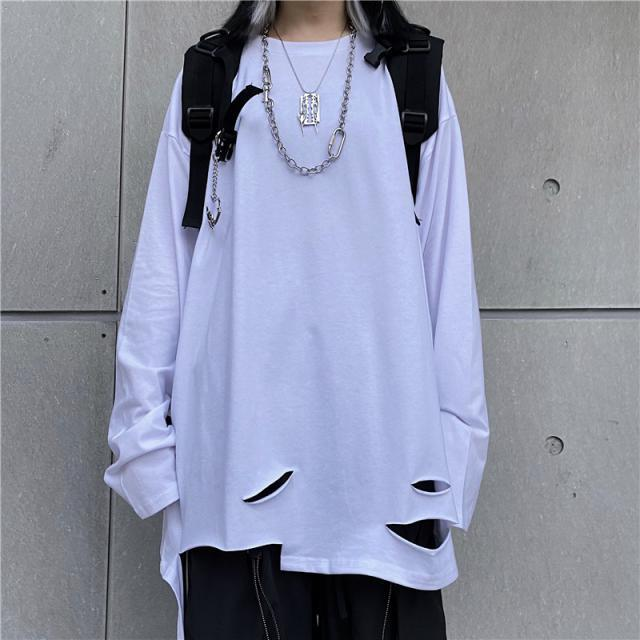Shirt: (106, 21, 489, 586)
